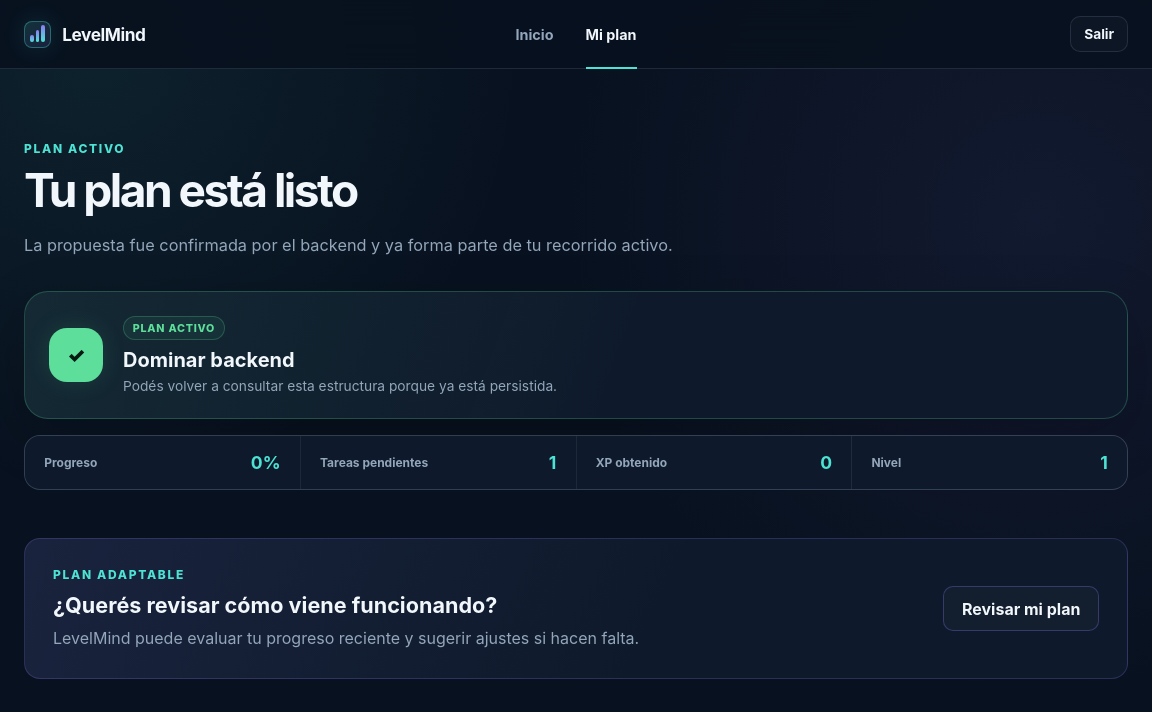
adaptation HITL flow › rejects the existing adaptation without refreshing or changing the plan
This screenshot has width=1152, height=712.
Click the button "Revisar mi plan": (1021, 609) [943,586,1099,631]
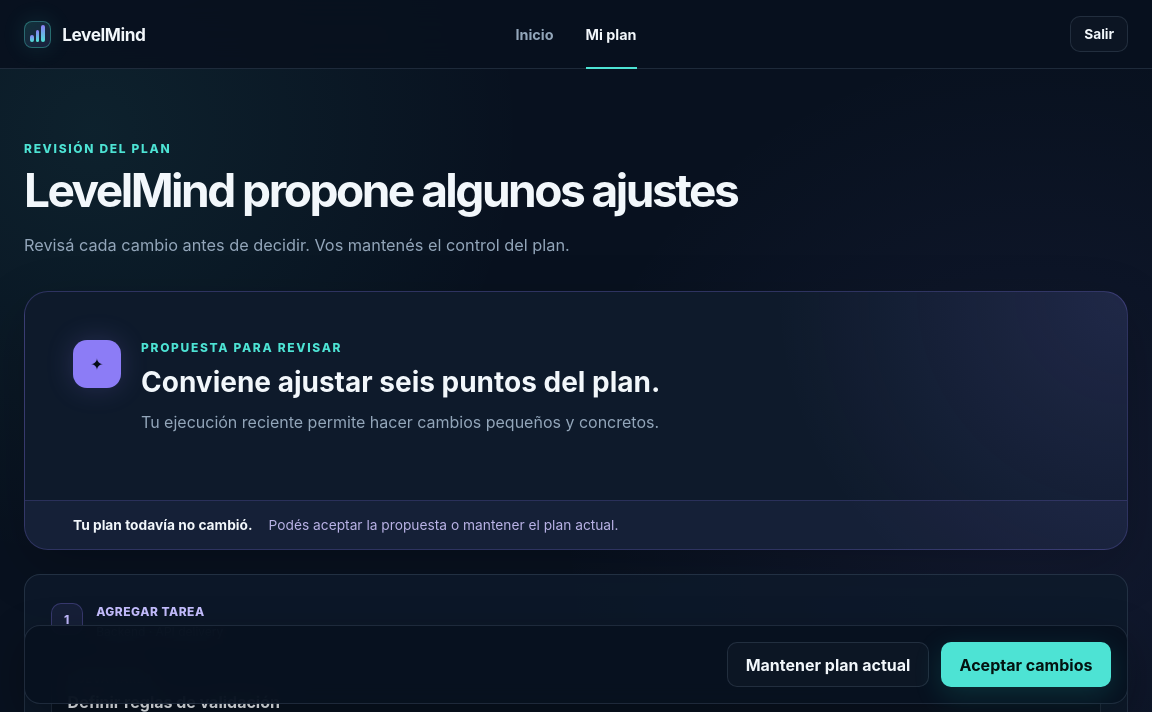
Result: the heading "LevelMind propone algunos ajustes" is shown at [24,166,737,216]
Click the button "Mantener plan actual": (828, 665) [727,643,929,687]
(page scrolled)
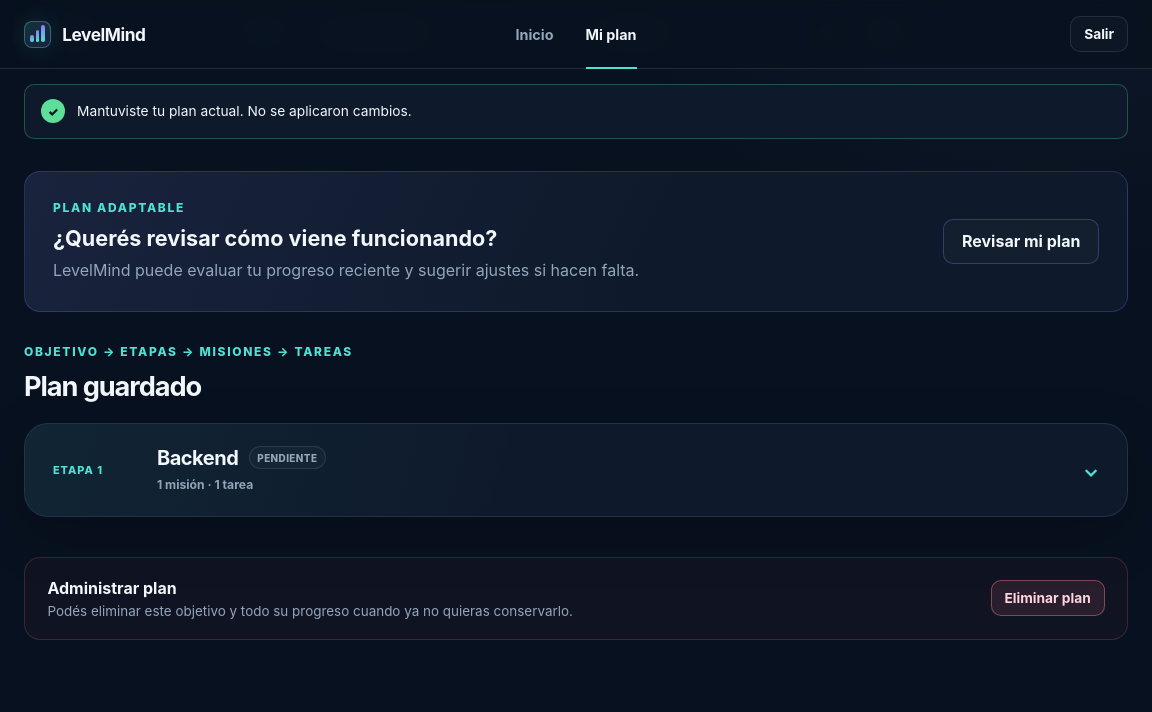
Result: the text "Mantuviste tu plan actual. No se aplicaron cambios." is shown at [77,103,412,119]
Result: the button "Etapa 1 Backend Pendiente 1 misión · 1 tarea ⌄" is shown at [25,424,1127,516]
